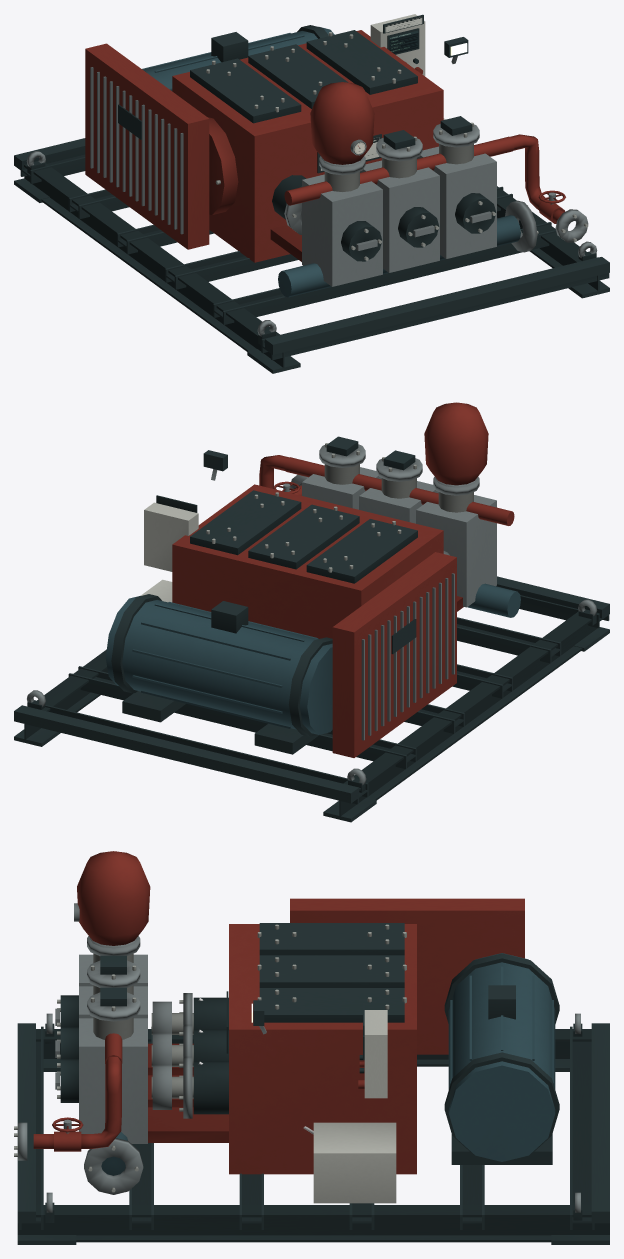
The model's file is mud_pump_single_lodM.glb.
3 views of the same model, one above another, from view 1: azimuth 30°, elevation 25°; view 2: azimuth 150°, elevation 25°; view 3: azimuth 270°, elevation 25° (orthographic). The views are drawn at different scales.
Visible parts, largest first — view 1: skid_dark, power_end_oxide, fluid_end_steel, drive_guard_oxide, power_end_dark, drive_guard_steel, pulsation_dampener_oxide, fluid_end_dark, discharge_manifold_oxide, fluid_end_machined, drive_motor_blue, suction_manifold_blue (+8 smaller); view 2: skid_dark, drive_motor_blue, power_end_oxide, drive_guard_oxide, power_end_dark, fluid_end_steel, drive_motor_dark, drive_guard_steel, pulsation_dampener_oxide, discharge_manifold_oxide, control_panel_ivory, fluid_end_machined (+3 smaller); view 3: skid_dark, power_end_oxide, drive_motor_blue, power_end_dark, drive_guard_oxide, fluid_end_steel, liner_cooling_and_lubrication_ivory, pulsation_dampener_oxide, drive_motor_dark, liners_and_pony_rods_dark, liners_and_pony_rods_steel, discharge_manifold_oxide (+8 smaller).
Boxes of the visible parts, x1=… form: skid_dark: x1=14, y1=138, x2=609, y2=373; power_end_oxide: x1=172, y1=30, x2=443, y2=262; fluid_end_steel: x1=302, y1=123, x2=496, y2=286; drive_guard_oxide: x1=85, y1=43, x2=209, y2=249; power_end_dark: x1=190, y1=30, x2=417, y2=173; drive_guard_steel: x1=90, y1=67, x2=183, y2=234; pulsation_dampener_oxide: x1=310, y1=82, x2=374, y2=164; fluid_end_dark: x1=341, y1=116, x2=496, y2=261; discharge_manifold_oxide: x1=284, y1=134, x2=565, y2=223; fluid_end_machined: x1=324, y1=122, x2=495, y2=260; drive_motor_blue: x1=142, y1=26, x2=334, y2=90; suction_manifold_blue: x1=278, y1=215, x2=520, y2=297; skid_dark: x1=14, y1=576, x2=609, y2=822; drive_motor_blue: x1=105, y1=595, x2=332, y2=734; power_end_oxide: x1=172, y1=484, x2=443, y2=638; drive_guard_oxide: x1=332, y1=552, x2=456, y2=757; power_end_dark: x1=190, y1=490, x2=417, y2=583; fluid_end_steel: x1=302, y1=443, x2=496, y2=607; drive_motor_dark: x1=111, y1=594, x2=332, y2=754; drive_guard_steel: x1=361, y1=573, x2=454, y2=740; pulsation_dampener_oxide: x1=424, y1=402, x2=488, y2=485; discharge_manifold_oxide: x1=259, y1=455, x2=514, y2=525; control_panel_ivory: x1=144, y1=502, x2=198, y2=571; fluid_end_machined: x1=324, y1=443, x2=473, y2=512; skid_dark: x1=17, y1=1023, x2=609, y2=1244; power_end_oxide: x1=229, y1=924, x2=416, y2=1174; drive_motor_blue: x1=448, y1=953, x2=555, y2=1161; power_end_dark: x1=226, y1=923, x2=404, y2=1053; drive_guard_oxide: x1=290, y1=898, x2=524, y2=1054; fluid_end_steel: x1=55, y1=936, x2=147, y2=1143; liner_cooling_and_lubrication_ivory: x1=313, y1=1122, x2=396, y2=1203; pulsation_dampener_oxide: x1=77, y1=851, x2=150, y2=945; drive_motor_dark: x1=444, y1=953, x2=559, y2=1164; liners_and_pony_rods_dark: x1=193, y1=997, x2=228, y2=1114; liners_and_pony_rods_steel: x1=152, y1=993, x2=192, y2=1118; discharge_manifold_oxide: x1=33, y1=1033, x2=122, y2=1151.
Size of the model in its own units: 4.85 by 3.18 by 6.49.
Materials: 10 (10 with a texture image).
